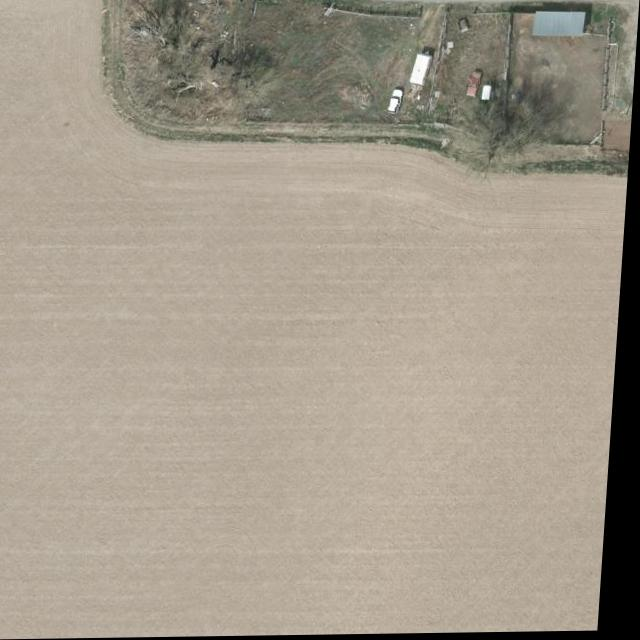vehicle: (467, 71, 485, 99), (387, 89, 404, 117)
